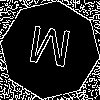M: (25, 25, 73, 77)
